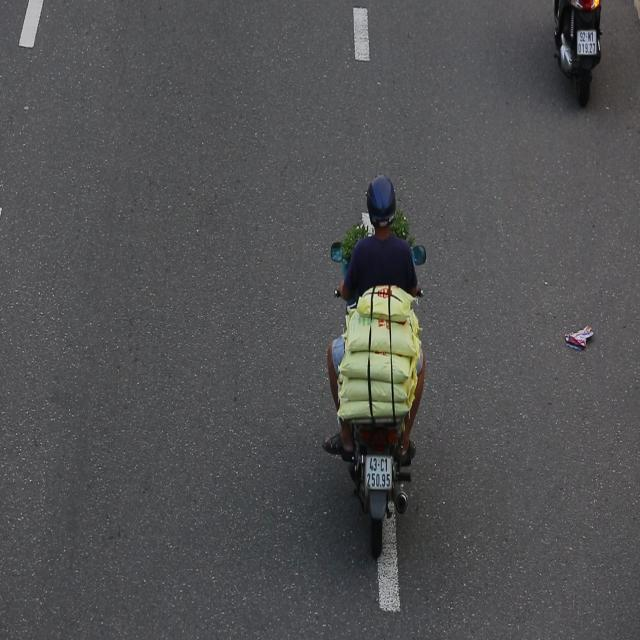motorbike: (316, 167, 442, 601)
